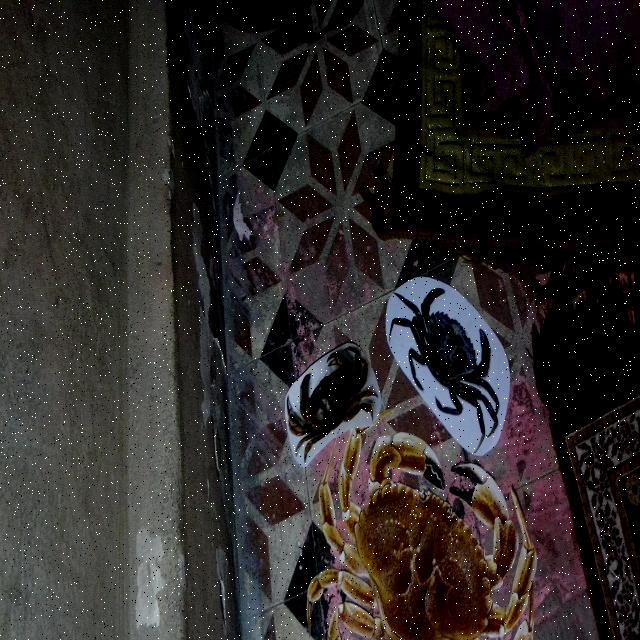European_Green_Crab: (386, 255, 513, 455)
